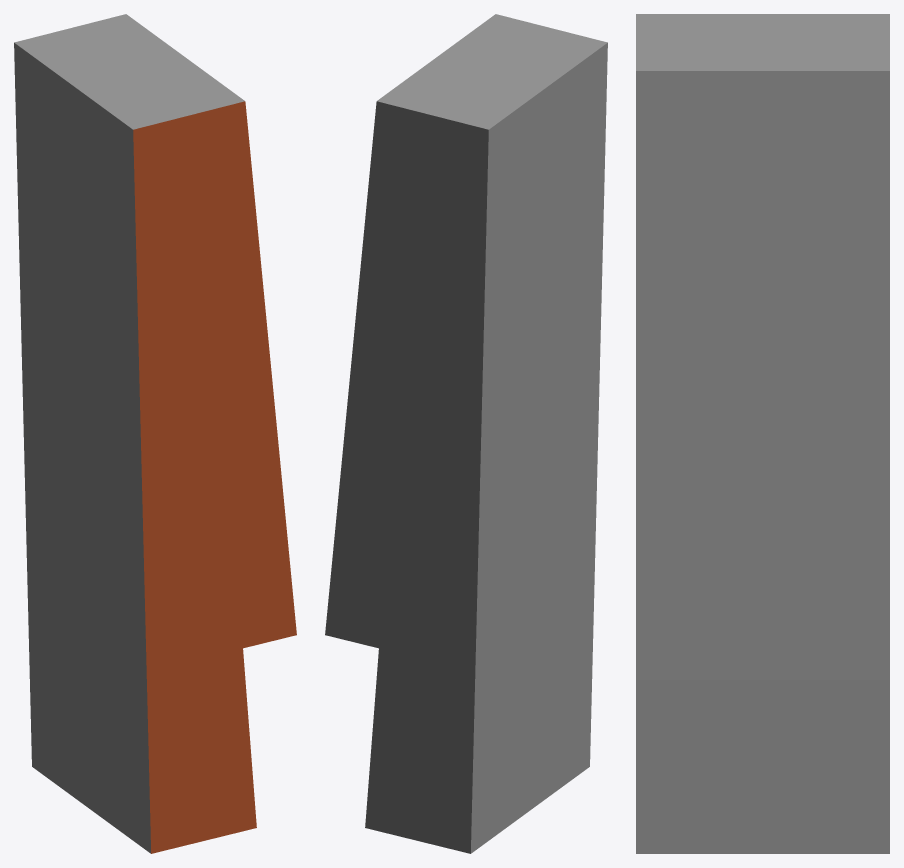
File: construction_1974_assumed_A_Casa_h6m.obj
The picture shows the model from 3 angles, left to right: view 1: azimuth 30°, elevation 25°; view 2: azimuth 150°, elevation 25°; view 3: azimuth 270°, elevation 25°; orthographic projection. The views are drawn at different scales.
Parts seen in each view (by area): view 1: construction_1974_assumed_A_Casa; view 2: construction_1974_assumed_A_Casa; view 3: construction_1974_assumed_A_Casa.
Boxes of the visible parts, bbox=[...] form: construction_1974_assumed_A_Casa: bbox=[14, 14, 296, 853]; construction_1974_assumed_A_Casa: bbox=[325, 14, 607, 853]; construction_1974_assumed_A_Casa: bbox=[636, 14, 889, 853].
Size of the model in its own units: 4.76 by 20.27 by 6.
